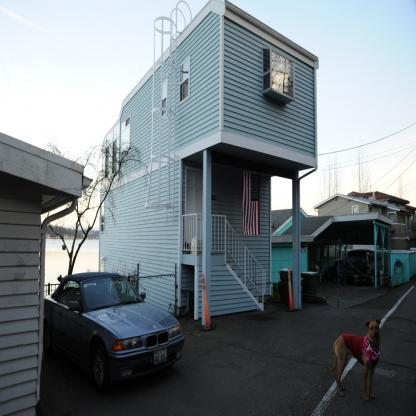Car: (41, 274, 188, 392)
